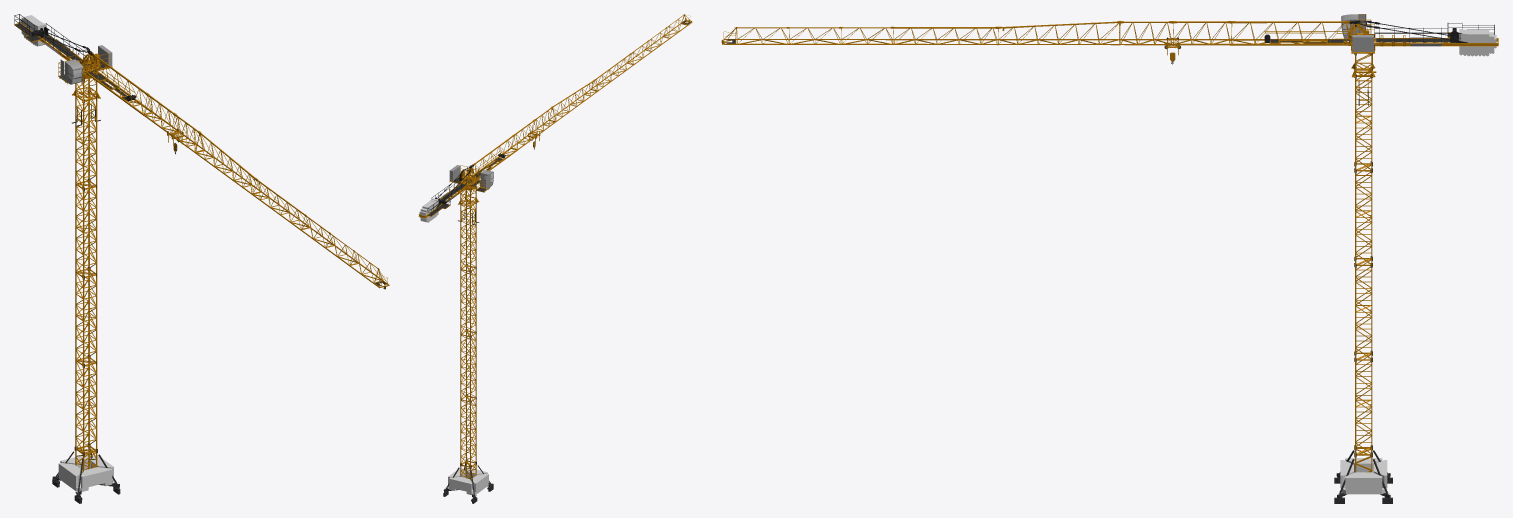
The model's file is Liebherr_150_ECB.FBX.
The picture shows the model from 3 angles, left to right: view 1: azimuth 30°, elevation 25°; view 2: azimuth 150°, elevation 25°; view 3: azimuth 270°, elevation 25°; orthographic projection. The views are drawn at different scales.
Parts seen in each view (by area): view 1: body_stripped; view 2: body_stripped; view 3: body_stripped.
Boxes of the visible parts, box(x1,y1,x2,y2) form: body_stripped: box(14, 14, 389, 503); body_stripped: box(418, 14, 692, 503); body_stripped: box(721, 14, 1498, 503).
Bounding box in the file's own units: 0.0551 × 0.4988 × 0.7442.
